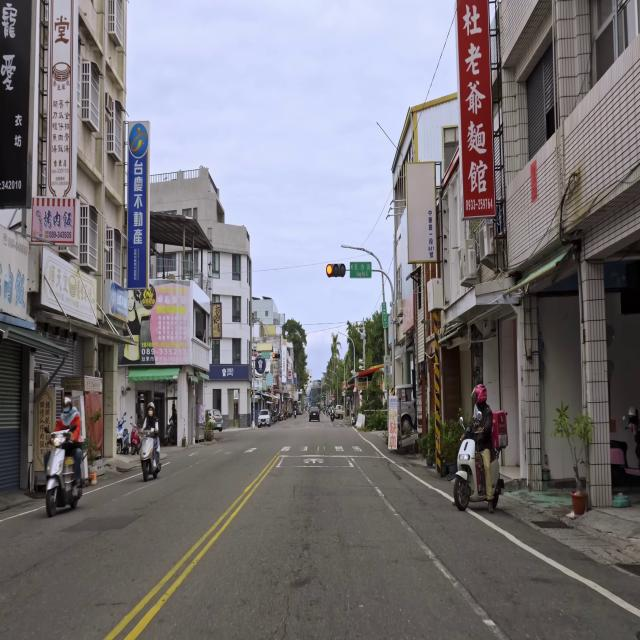red light: (326, 263, 346, 278), (272, 353, 281, 359)
